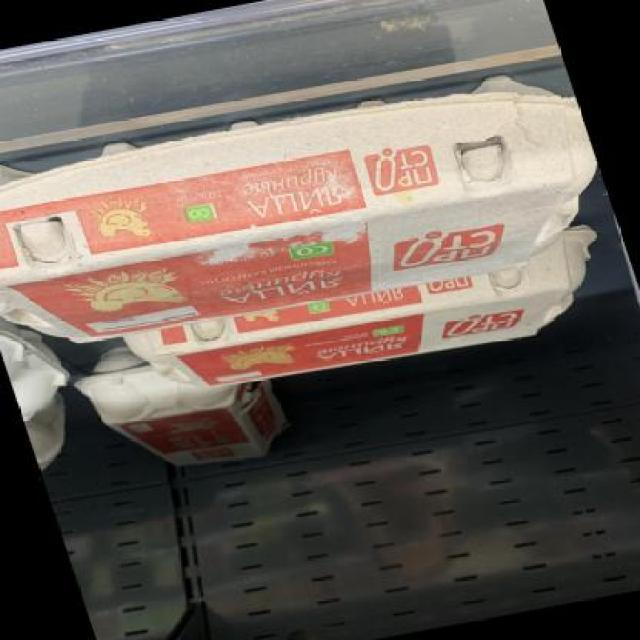egg: (0, 51, 626, 366), (121, 250, 618, 413)
